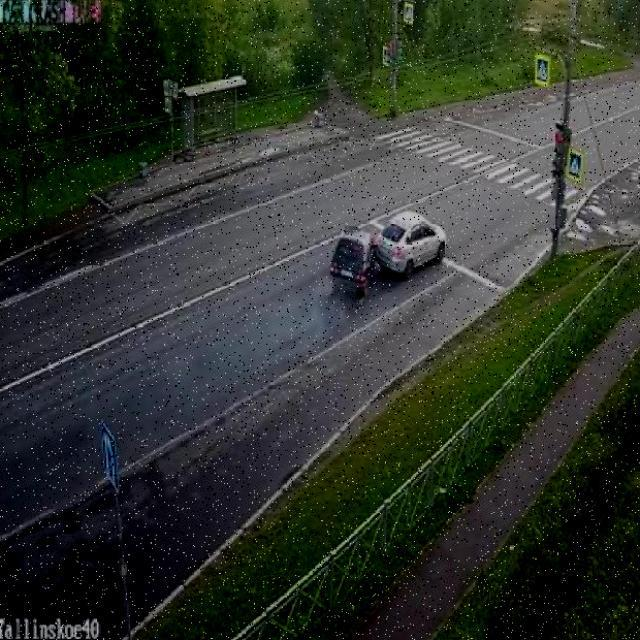accident: (328, 210, 447, 298)
